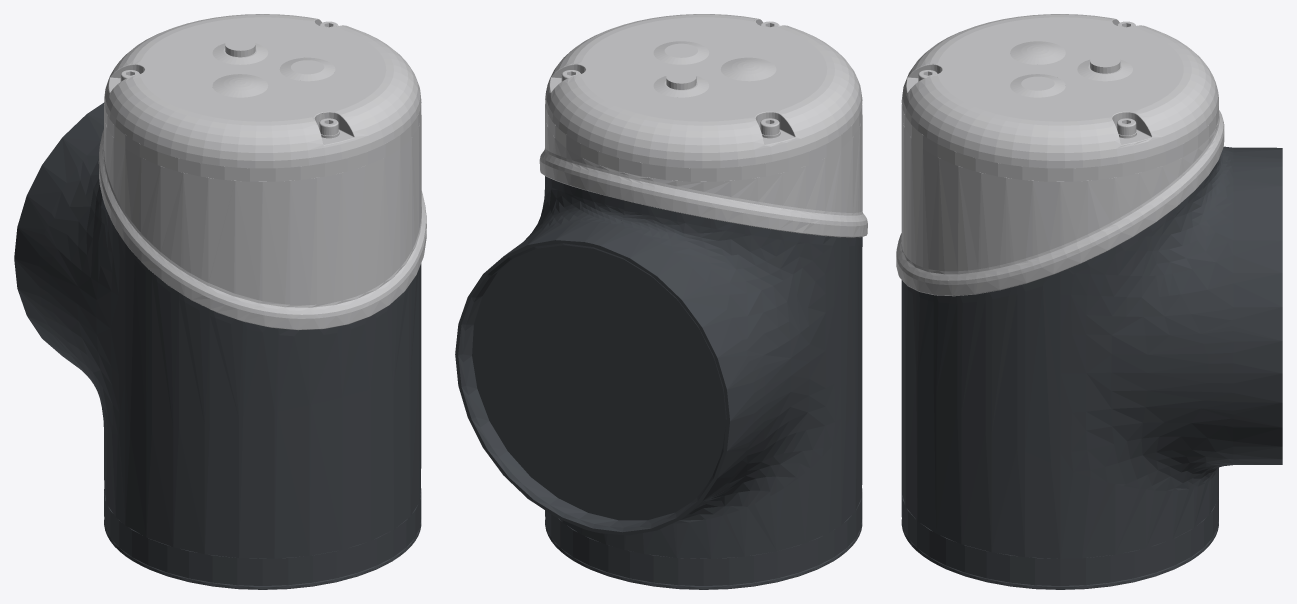
Rendered from ARM6.obj.
3 views of the same model, side by side, from view 1: azimuth 30°, elevation 25°; view 2: azimuth 150°, elevation 25°; view 3: azimuth 270°, elevation 25° (orthographic).
Visible parts, largest first — view 1: GBT-C12A-400.00-6; view 2: GBT-C12A-400.00-6; view 3: GBT-C12A-400.00-6.
Boxes of the visible parts, <box> form: GBT-C12A-400.00-6: <box>14,14,426,589</box>; GBT-C12A-400.00-6: <box>455,14,867,589</box>; GBT-C12A-400.00-6: <box>896,14,1282,589</box>.
Size of the model in its own units: 92.96 by 145 by 110.
Materials: 1 (1 with a texture image).
